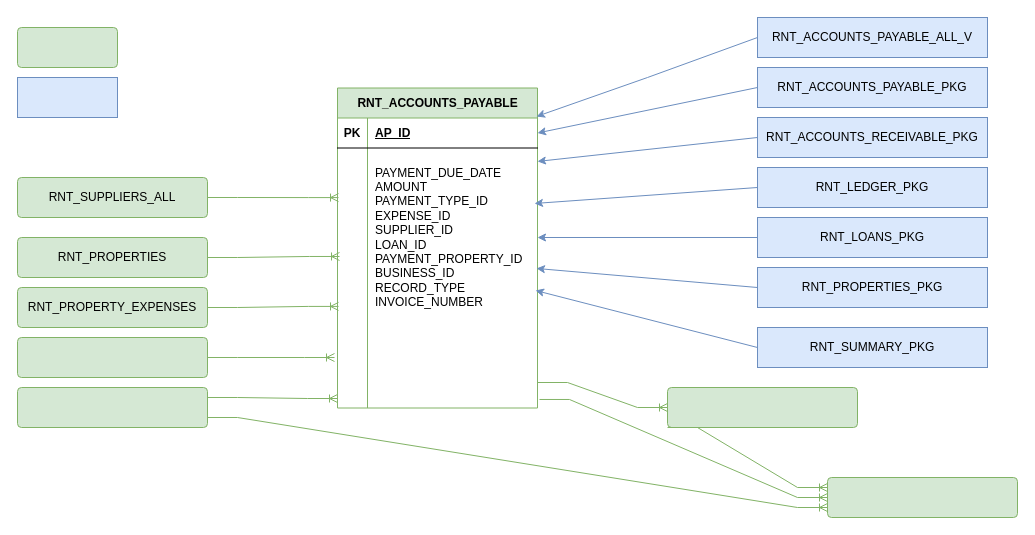
Some shapes in this 1035 by 535 pixel diagram are drawn without their labels. The shapes that lost their labels are listed below. From the top down, each one's centre as x and y in pixels, then its label:
At point 67,47: "FK Relationships".
At point 67,97: "DB Dependencies".
At point 112,357: "RNT_LOANS".
At point 112,407: "RNT_PAYMENT_TYPES".
At point 762,407: "RNT_PAYMENT_ALLOCATIONS".
At point 922,497: "RNT_LEDGER_ENTRIES".
